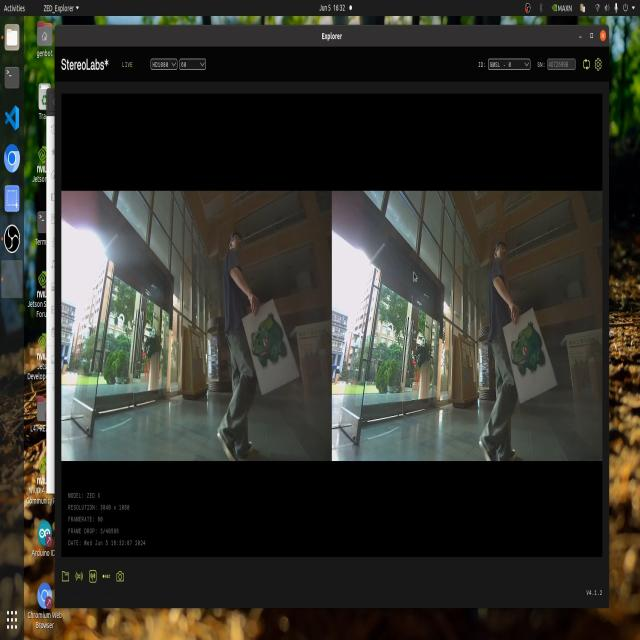green: (245, 304, 288, 370), (513, 315, 549, 371)
